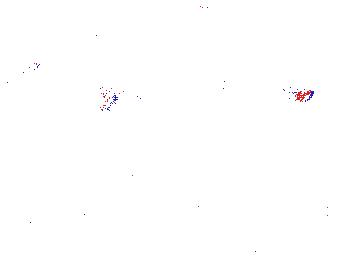red belly glassfish: (279, 79, 315, 105), (188, 42, 218, 59), (188, 3, 212, 16)
redtail glassfish: (101, 88, 175, 112), (1, 54, 41, 79)
siberian prawn: (23, 207, 96, 242)
